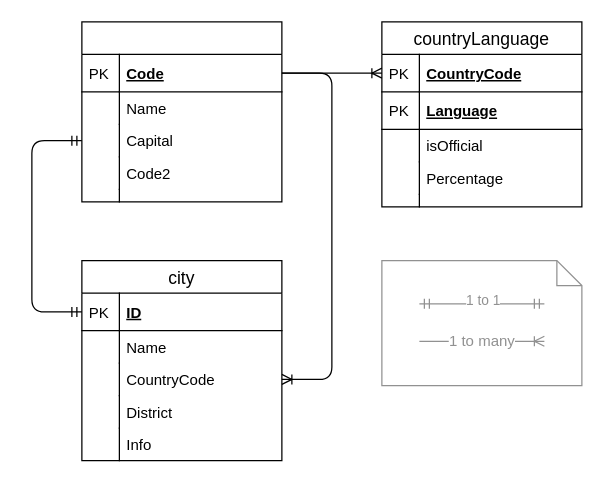
Image size: 604x486. Some labels were removed from this diagram. Here are the shapes that lost their labels. From the top down, the box of each, then its label:
(81, 21, 282, 202): country
(381, 259, 582, 386): Legend
